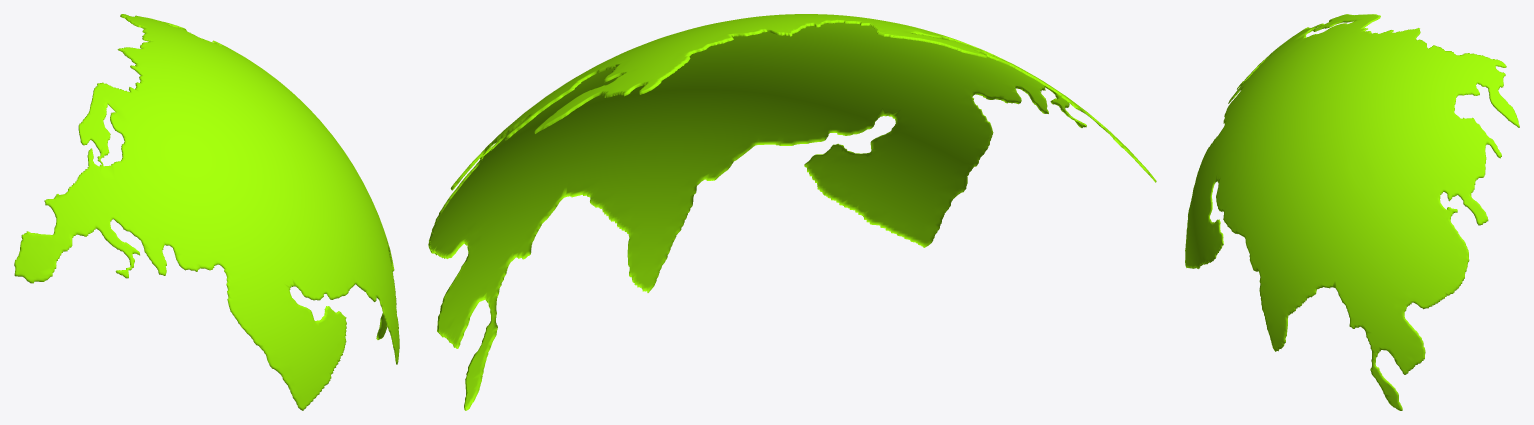
The model's file is Eurasia.fbx.
The picture shows the model from 3 angles, left to right: view 1: azimuth 30°, elevation 25°; view 2: azimuth 150°, elevation 25°; view 3: azimuth 270°, elevation 25°; orthographic projection. The views are drawn at different scales.
Parts seen in each view (by area): view 1: Eurasia; view 2: Eurasia; view 3: Eurasia.
Part boxes in pixels (x1,y1,x2,y2): Eurasia: (14, 14, 399, 410); Eurasia: (428, 14, 1156, 410); Eurasia: (1185, 14, 1519, 410).
Bounding box in the file's own units: 9159 × 6817 × 7305.
